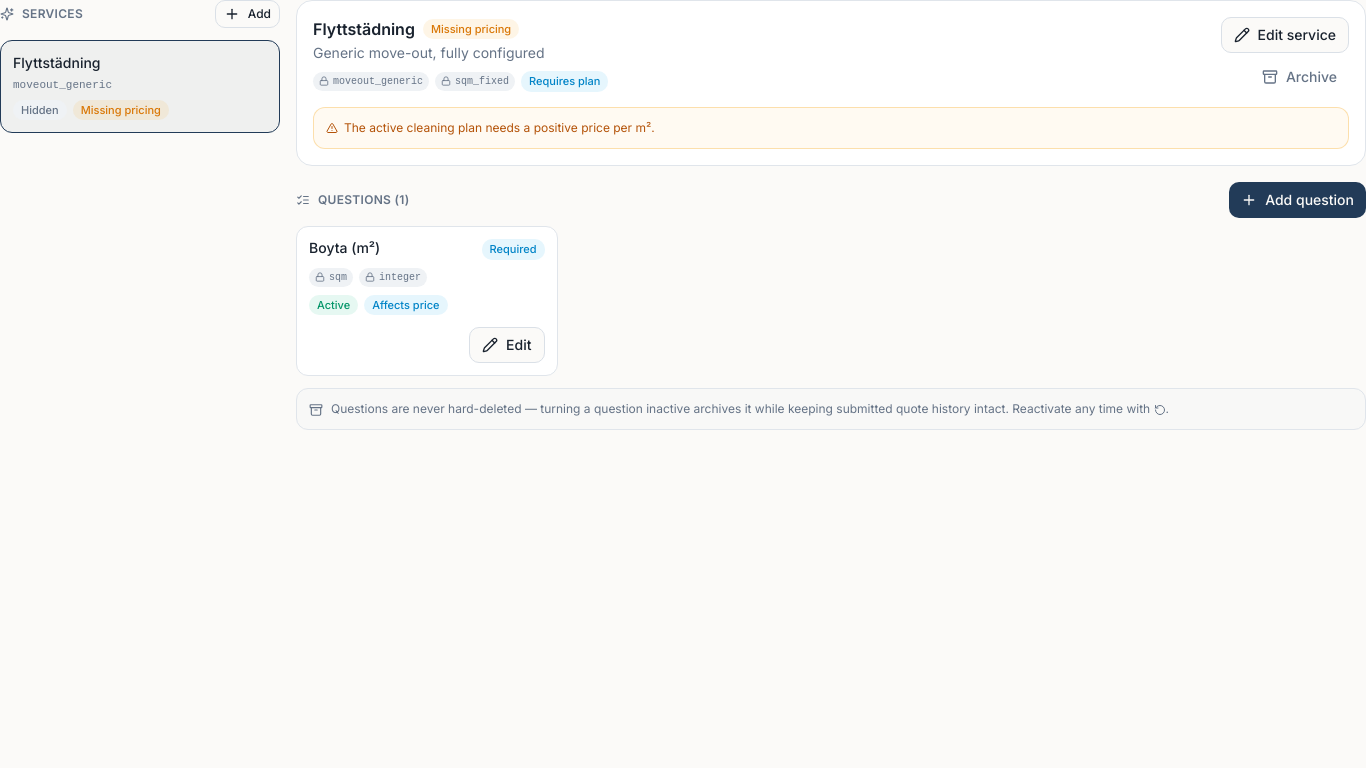
Test: ServicesFieldsEditor — GPM-8 sqm_fixed enable/public guard alignment › blocks enabling a sqm_fixed service whose plan has no positive price per m², citing the price reason (not 'unsupported')
The width and height of the screenshot is (1366, 768).
Click the button "Edit service". click: [1285, 35]
box: x1=1221 y1=17 x2=1349 y2=53
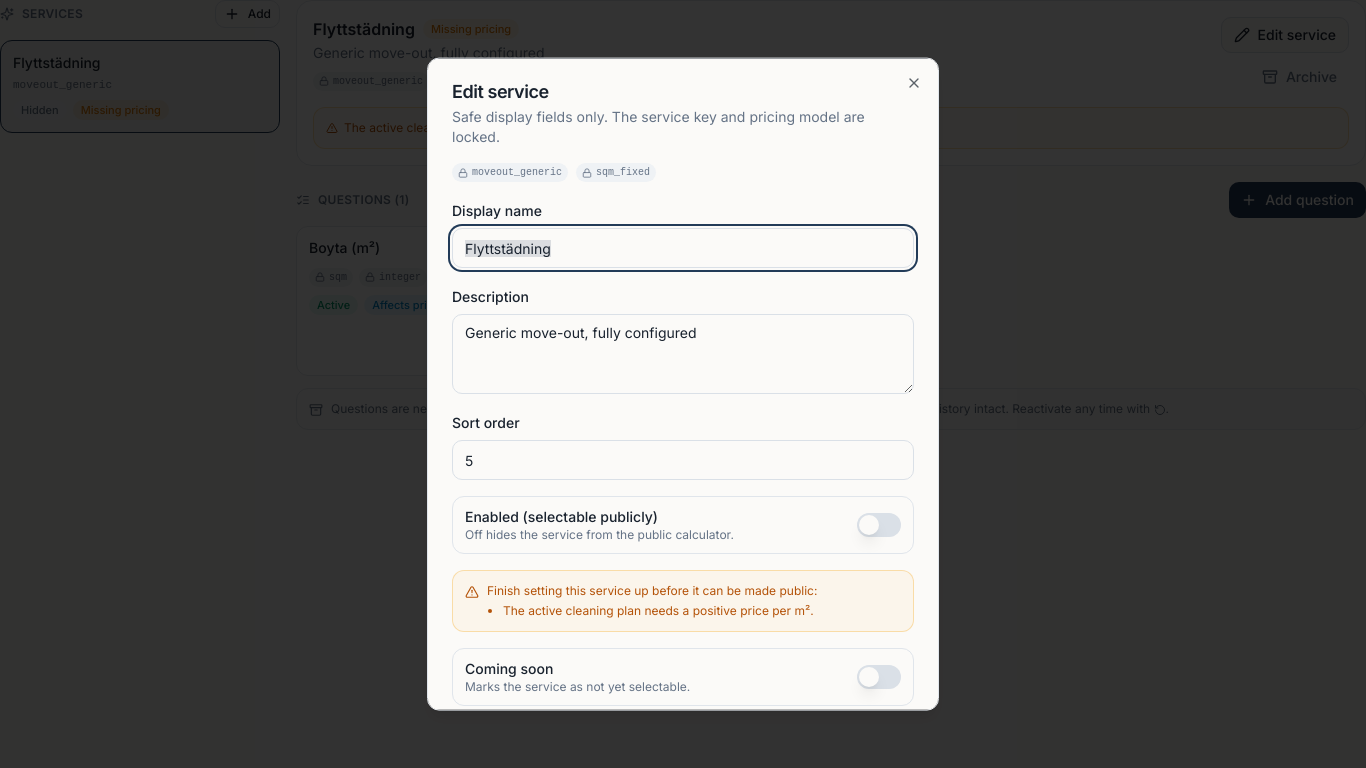
expect the switch named "Service enabled" is disabled: met, box x1=857 y1=513 x2=901 y2=537
expect the list item "The active cleaning plan needs a positive price per m²." is shown: met, box x1=503 y1=603 x2=817 y2=619
